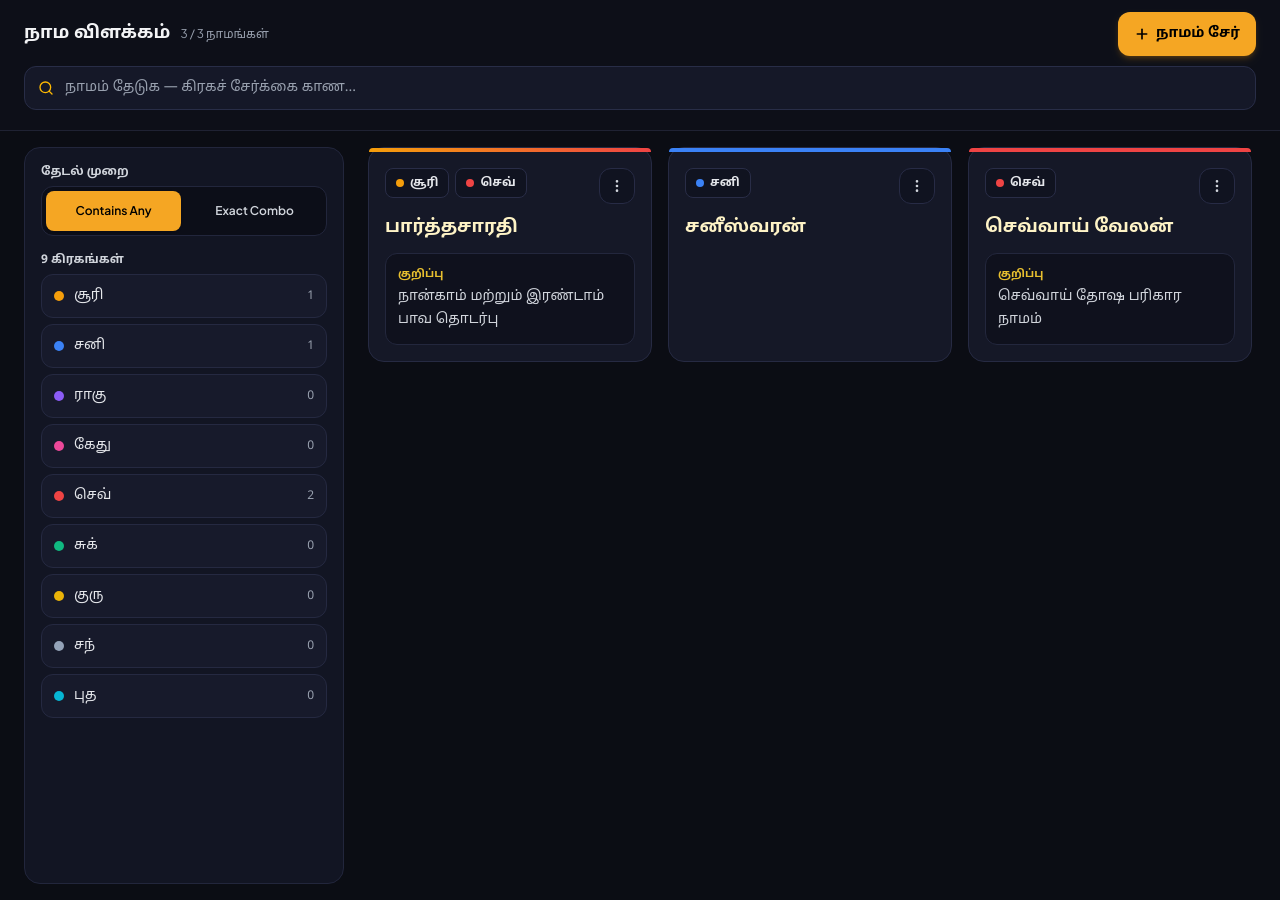
Test: Phase 4 UI: நாம விளக்கம் Tab, Role Permissions & 2-Way 9-Planet Search › supports 2-way Name search -> Planet Combination output and defaults to Contains Any vs Exact Combo
Type "பார்த்தசாரதி" into the field named "நாமத்தைத் தட்டச்சு செய்க" at (640, 88), box [24,66,1256,110]
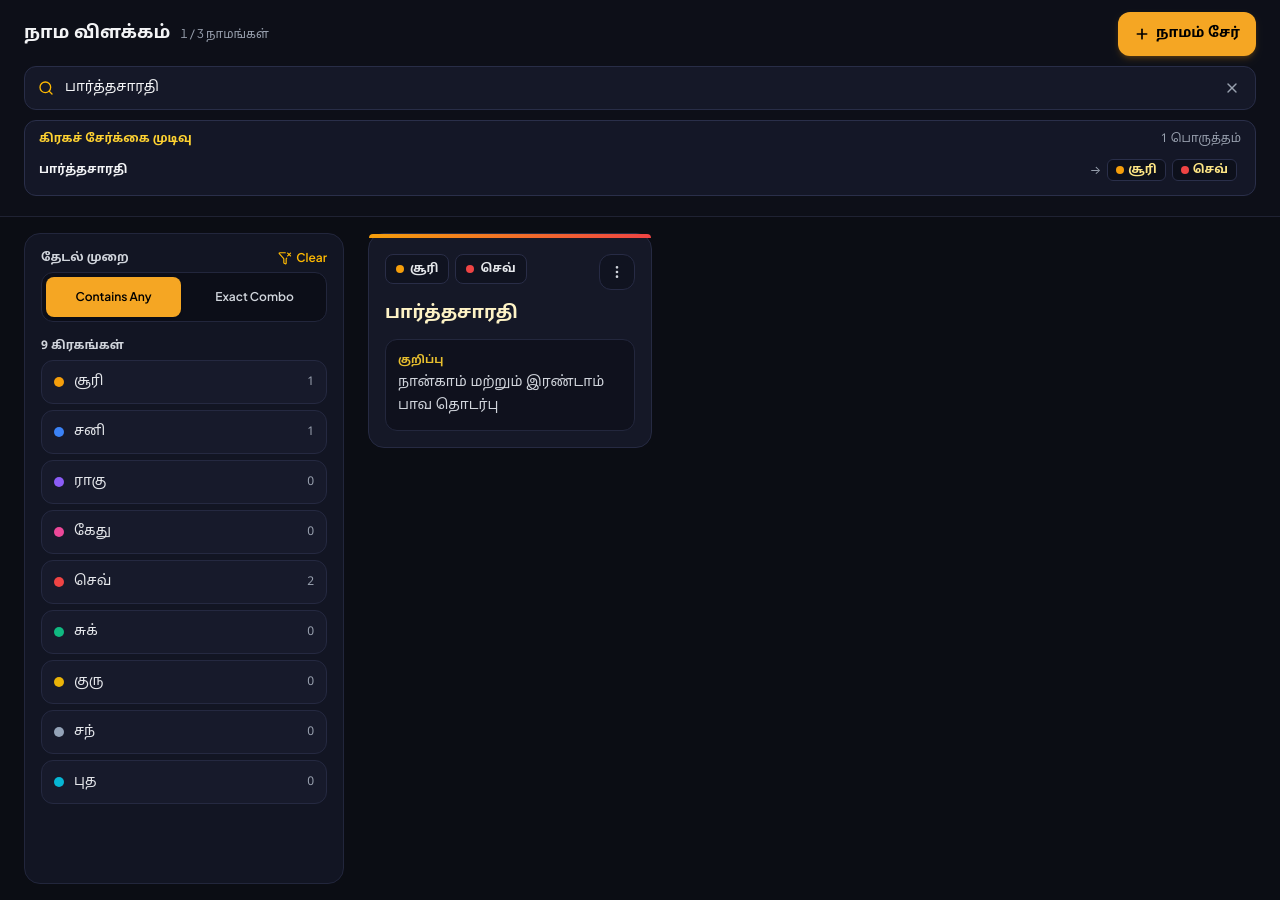
Check: the text "கிரகச் சேர்க்கை முடிவு" is shown, box [39,131,192,147]
// Clear search and test 9-planet Contains Any (default) vs Exact Combo
Clear the field named "நாமத்தைத் தட்டச்சு செய்க" at (640, 88), box [24,66,1256,110]
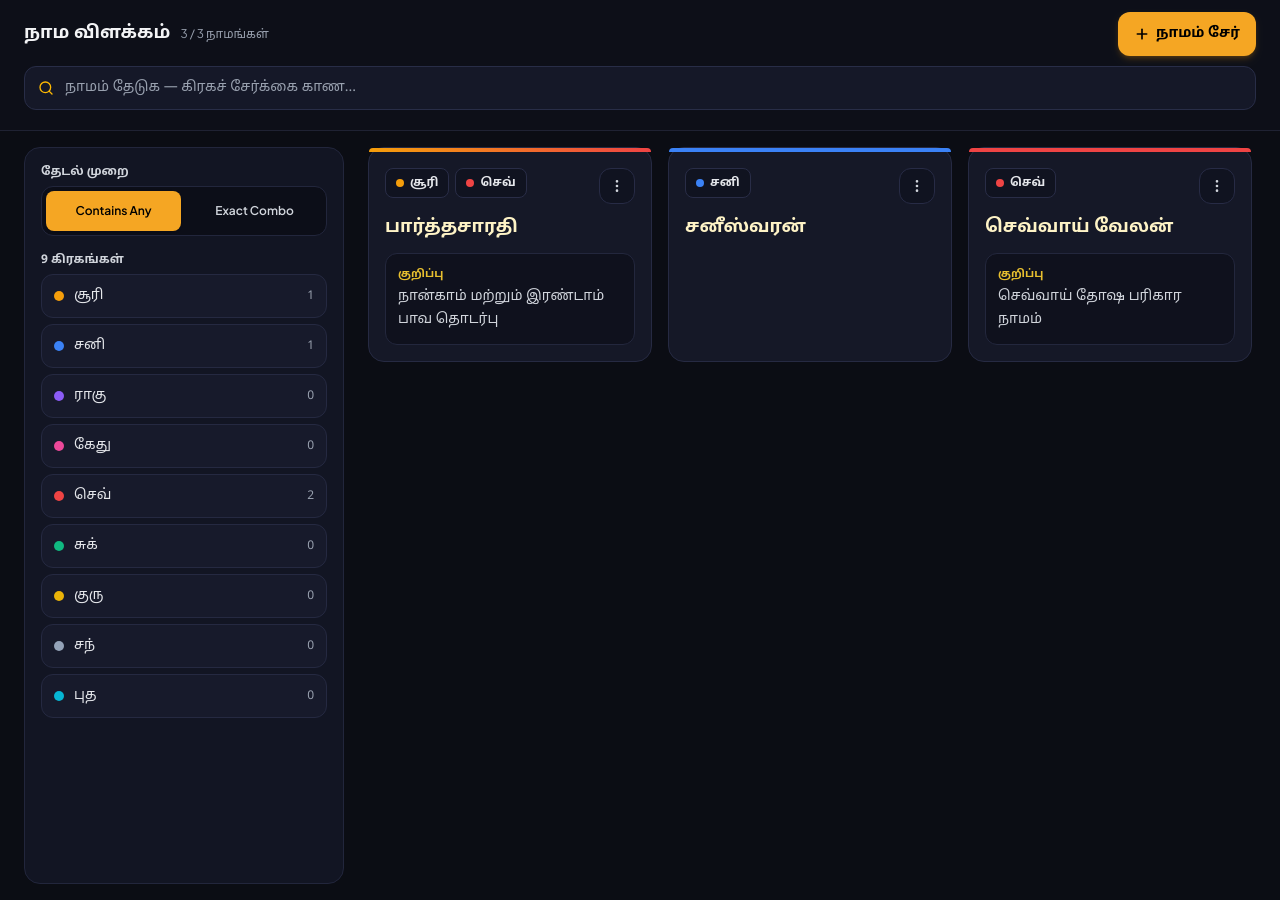
Check: the element that starts with "தேடல் முறை" is shown, box [24,147,344,884]
Click the button "சூரி 1" at (59, 296), box [41,274,327,318]
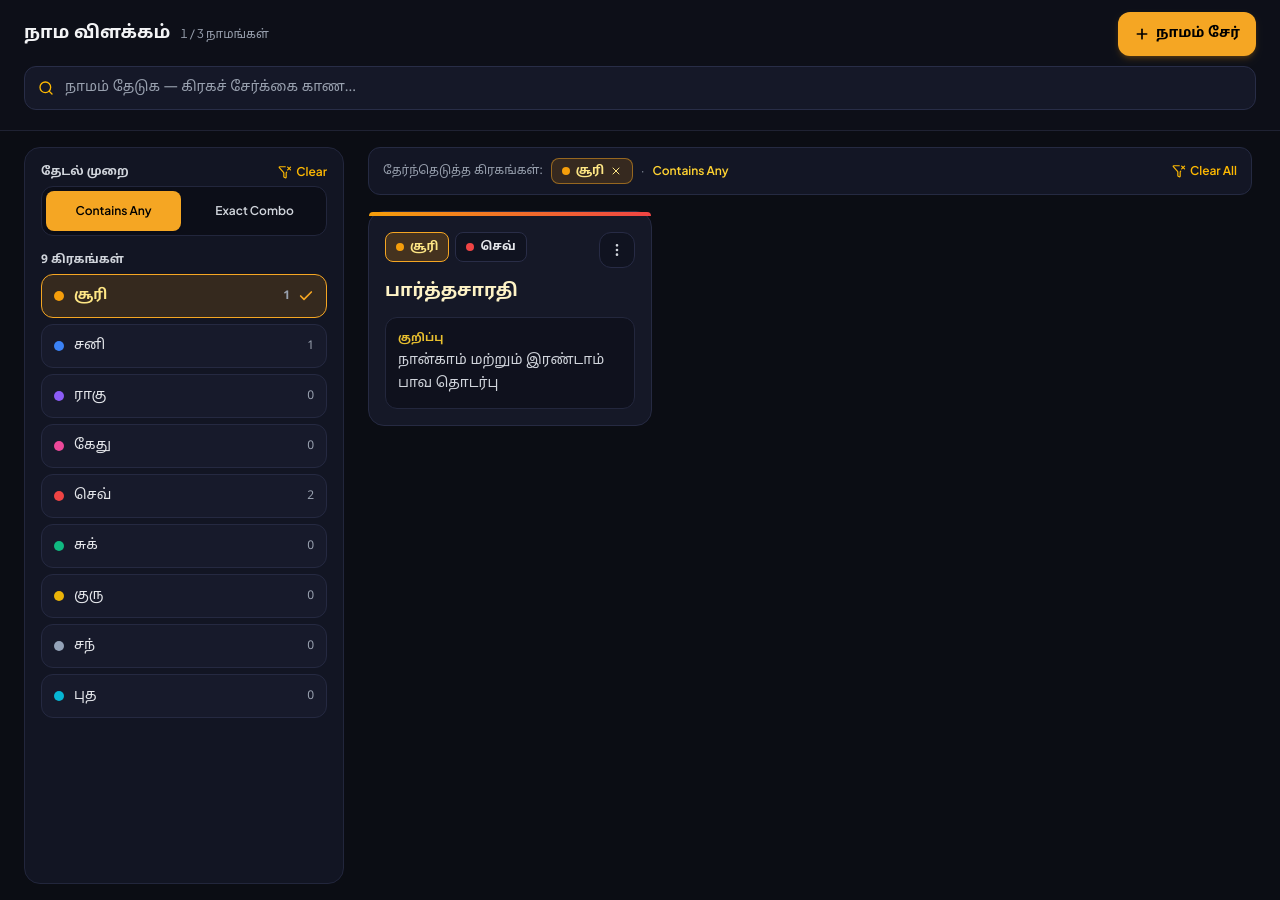
Click the button "செவ் 2" at (93, 496), box [41,474,327,518]
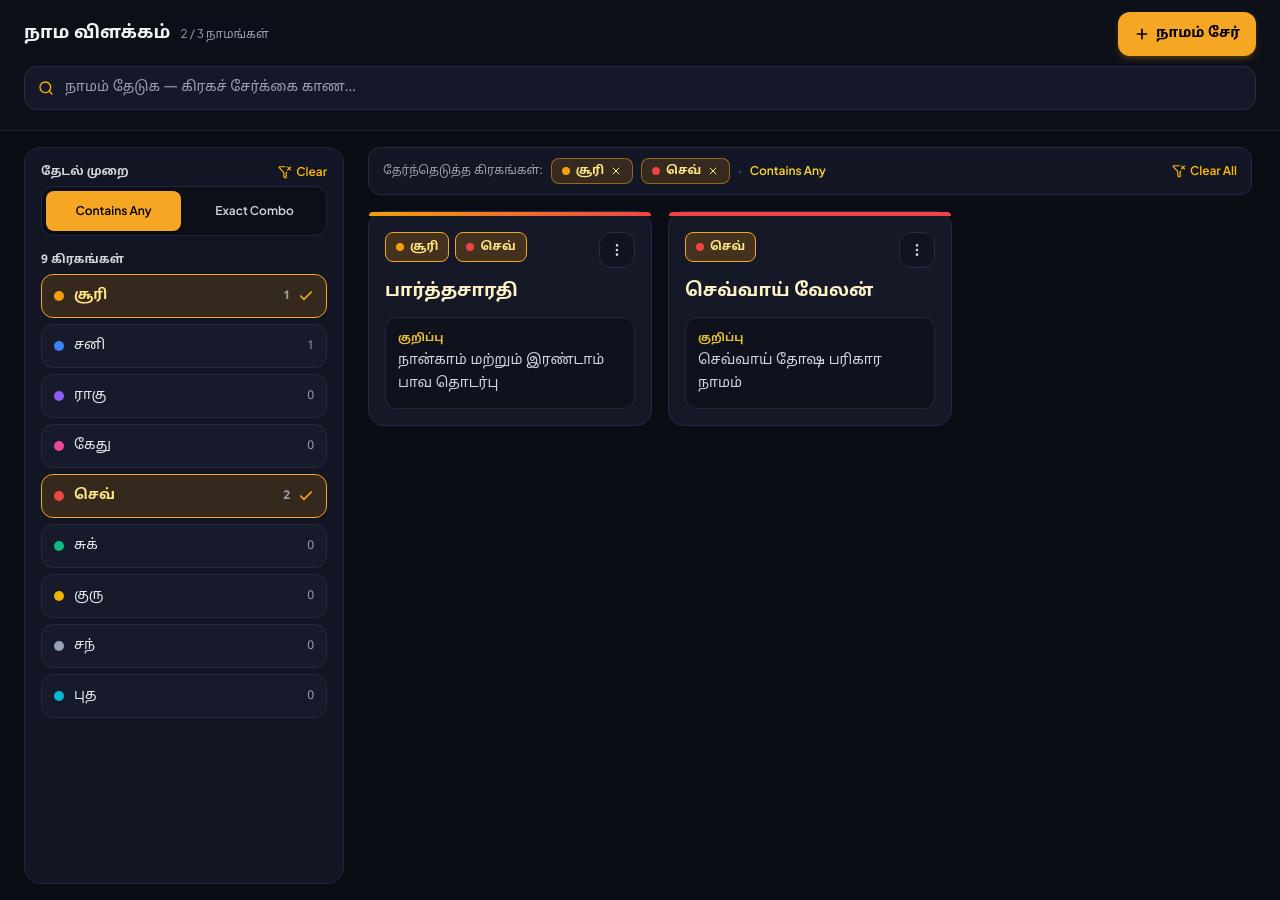
Check: the heading "பார்த்தசாரதி" is shown, box [385,280,518,303]
Check: the heading "செவ்வாய் வேலன்" is shown, box [685,280,874,303]
Click the button "Exact Combo" at (254, 211), box [187,191,322,231]
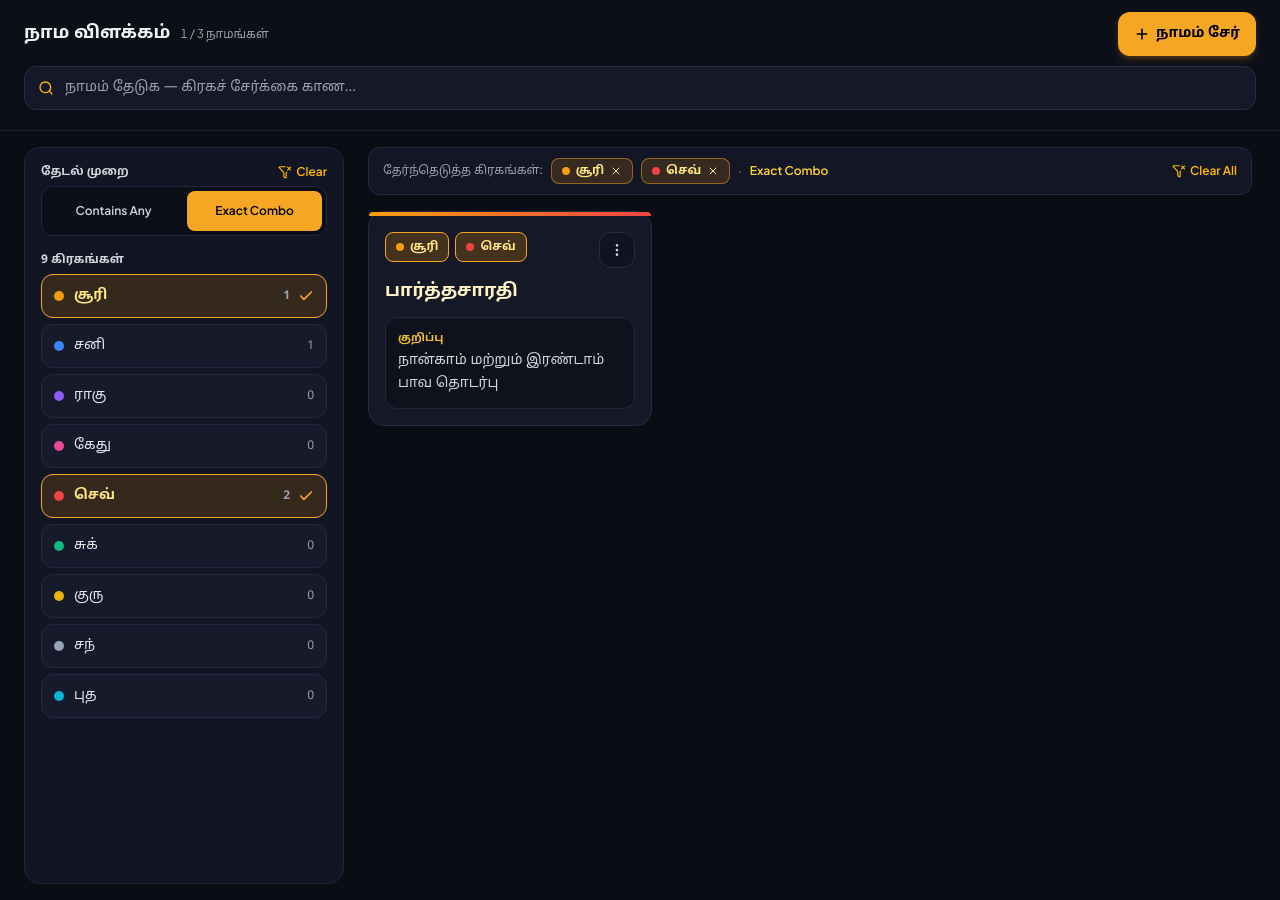
Check: the heading "பார்த்தசாரதி" is shown, box [385,280,518,303]
Check: the heading "செவ்வாய் வேலன்" is gone
